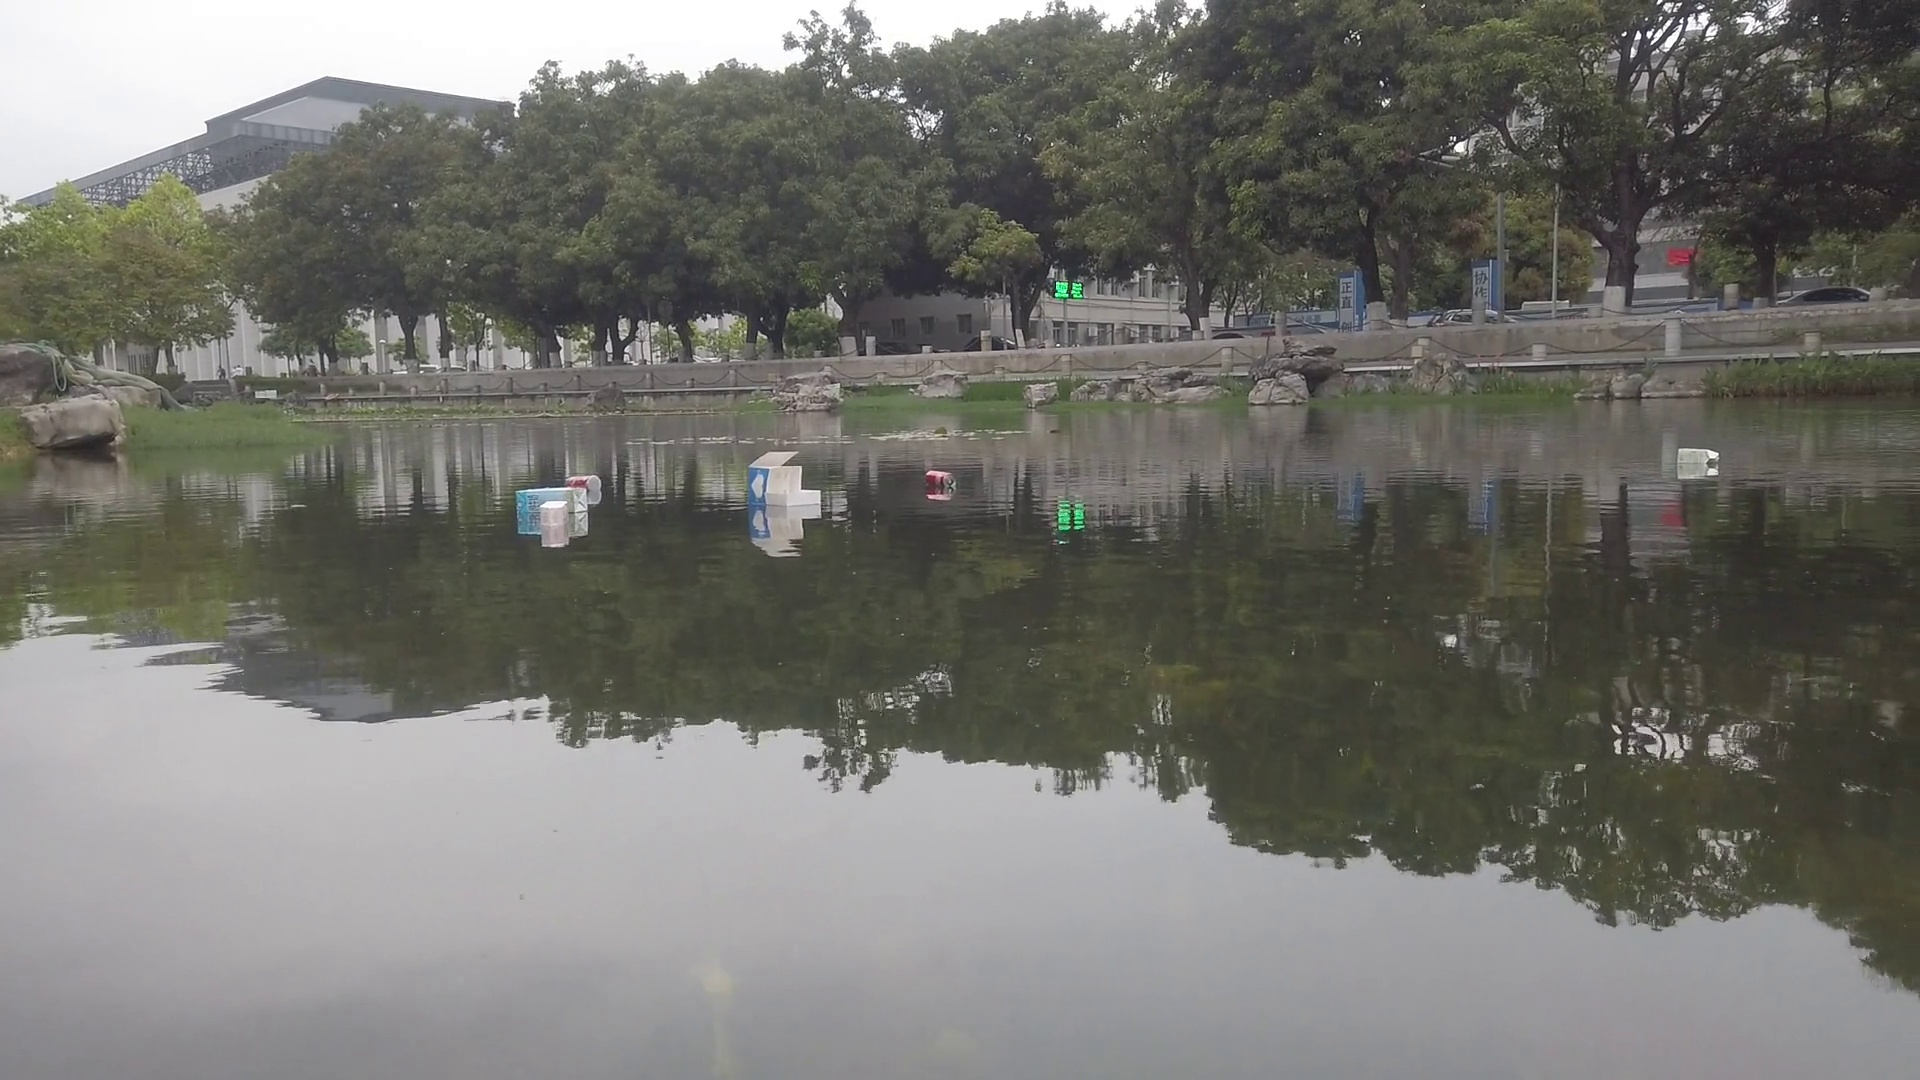bottle: (566, 469, 607, 493), (924, 469, 961, 495)
carton: (746, 447, 818, 510), (512, 485, 592, 520), (1676, 439, 1720, 469), (539, 498, 566, 527)
